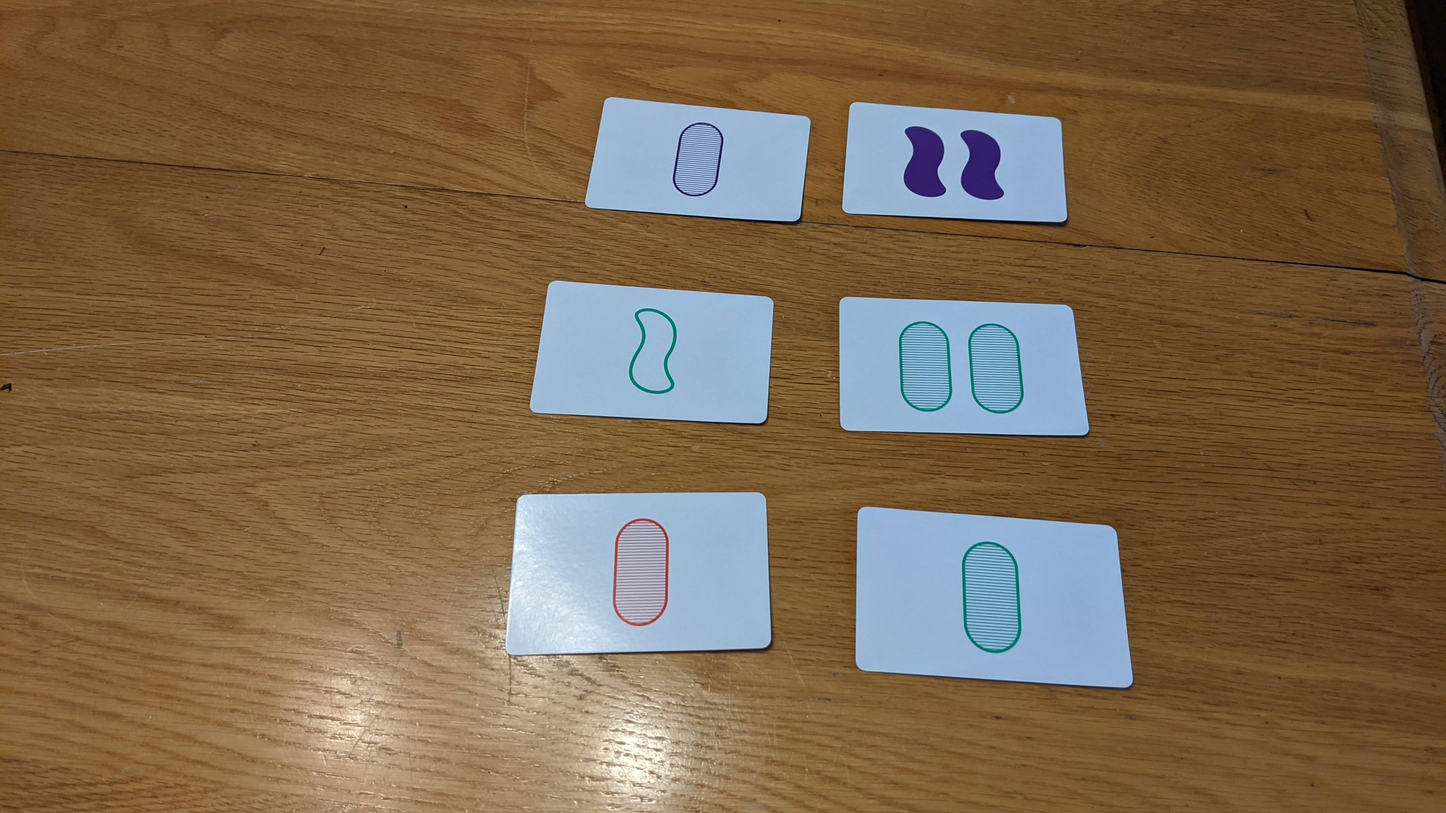card: (855, 506, 1134, 689), (506, 490, 772, 654), (838, 296, 1089, 436), (531, 280, 774, 424), (585, 97, 812, 222), (841, 102, 1069, 224)
